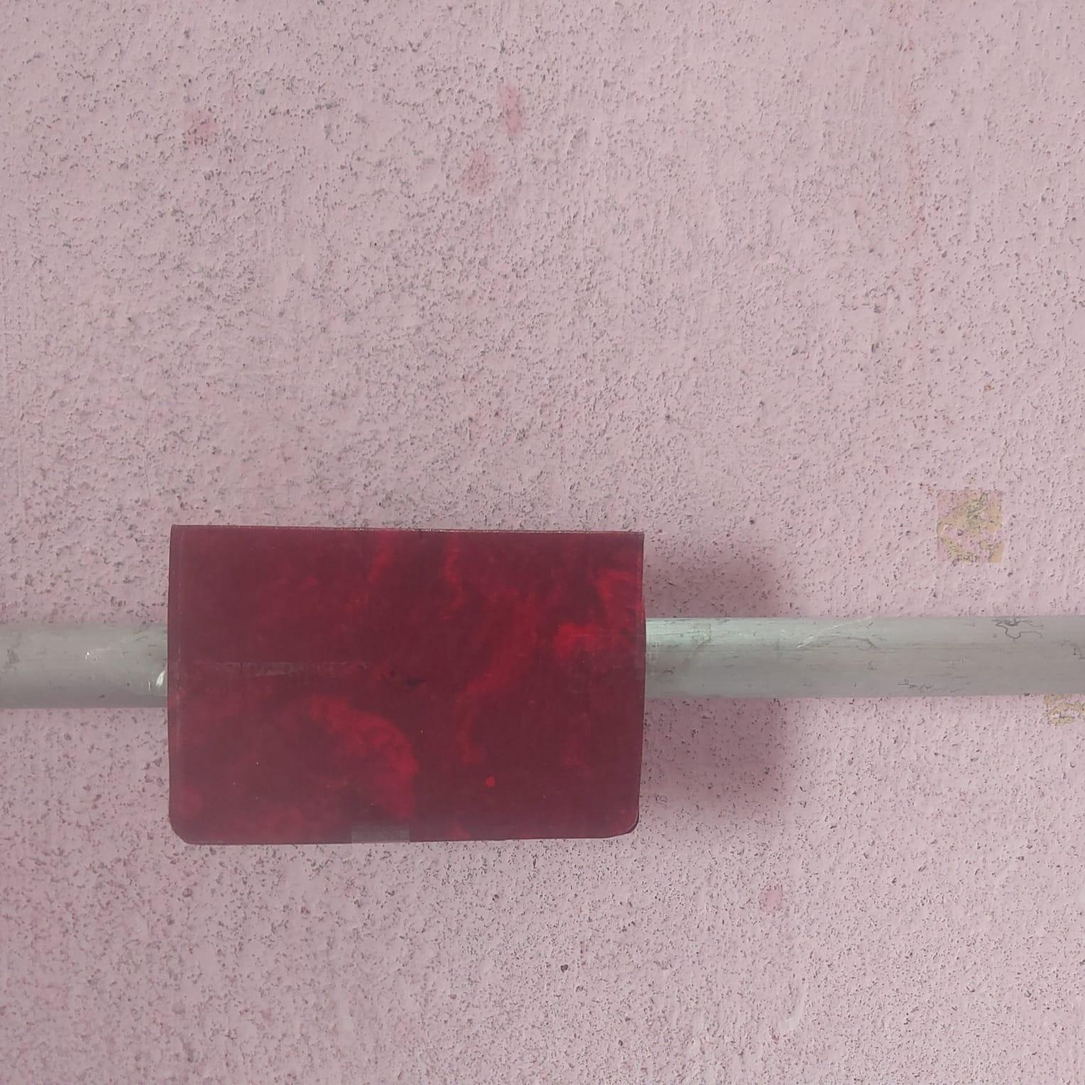wallet: (167, 518, 649, 838)
